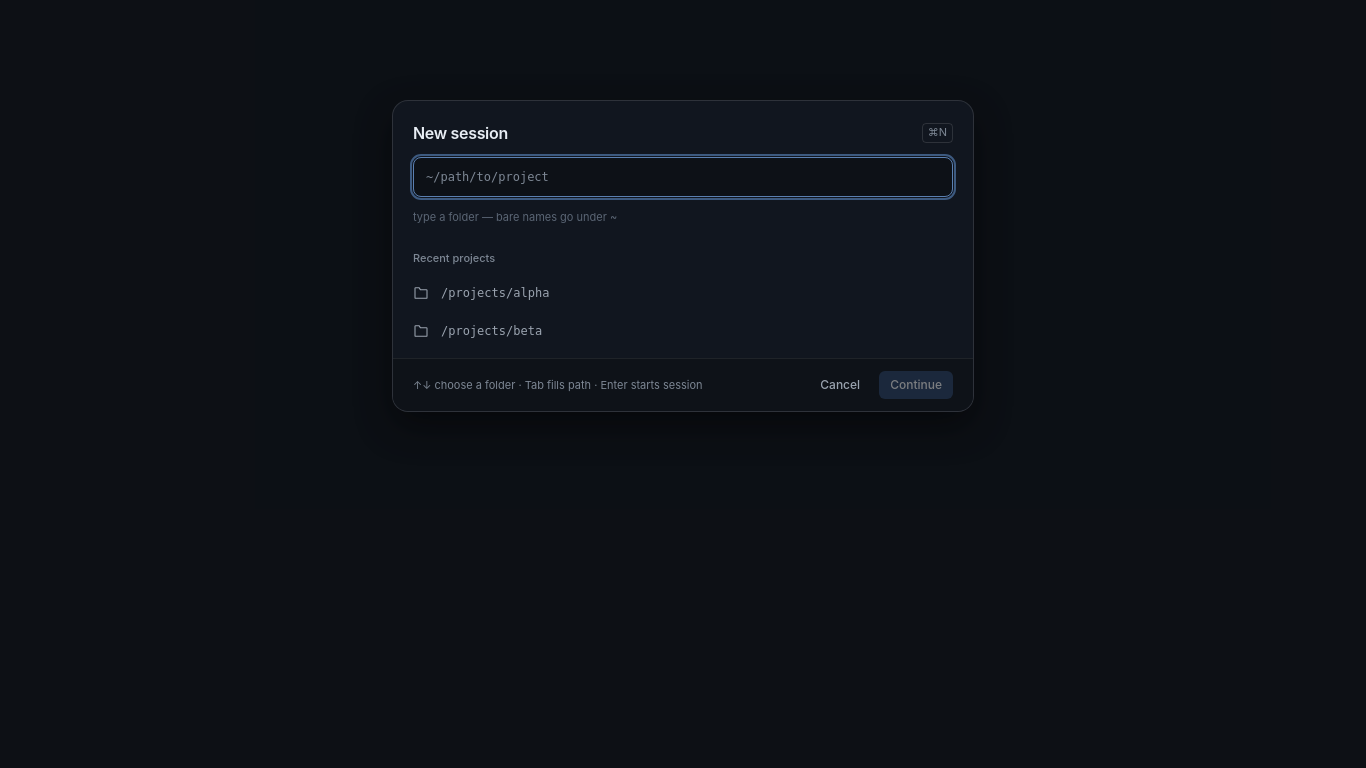
Test: new session folder selection › clicking a recent project fills the input without creating a session
Click the option "/projects/alpha" at (481, 293), box [413,285,549,301]
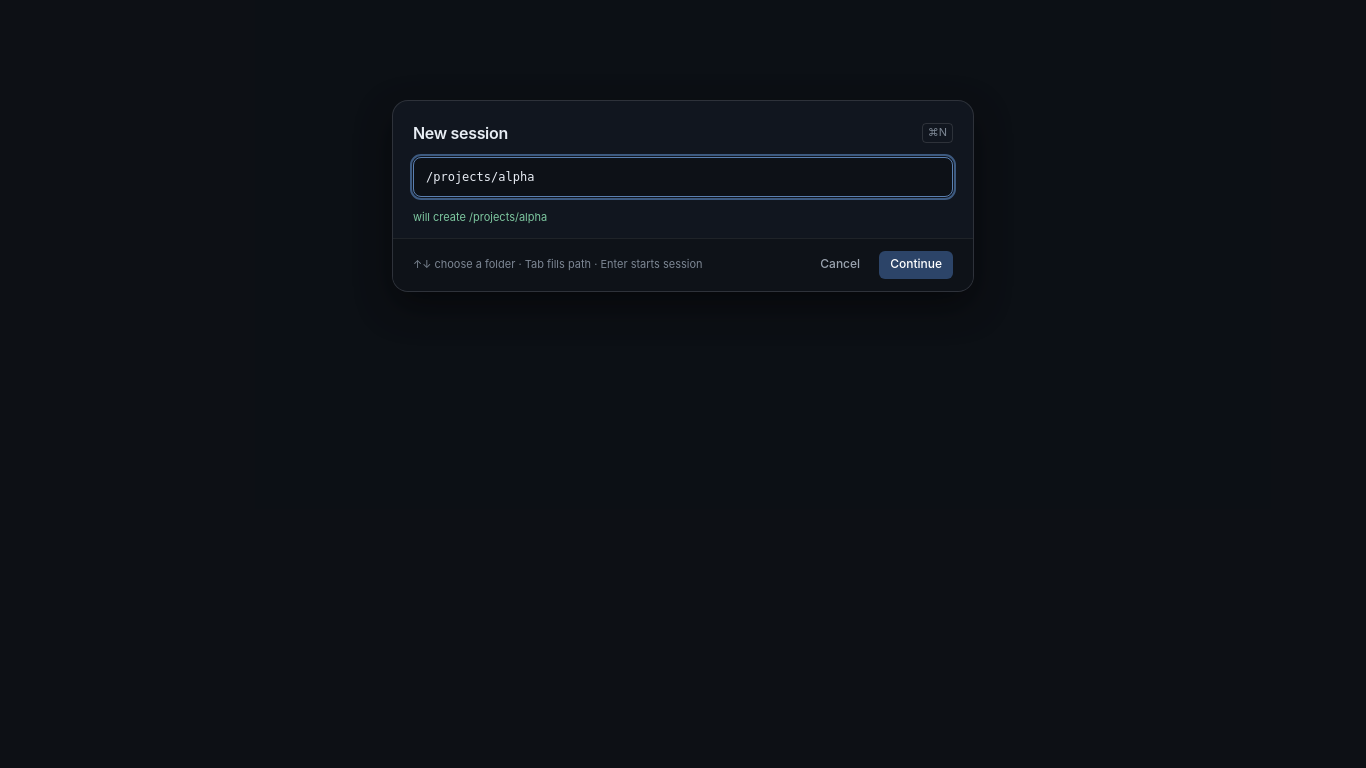
Expected: the dropdown named "Project folder" holds "/projects/alpha", [413,157,953,197]
